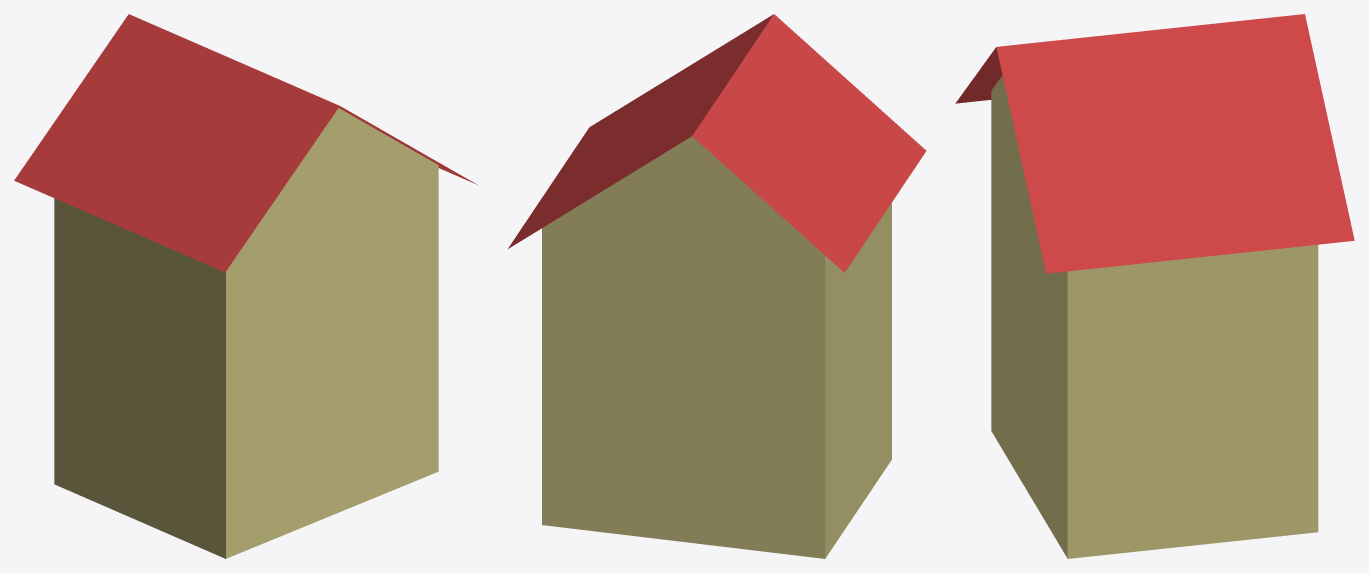
3 views of the same model, side by side, from view 1: azimuth 30°, elevation 25°; view 2: azimuth 150°, elevation 25°; view 3: azimuth 270°, elevation 25° (orthographic). The views are drawn at different scales.
Size of the model in its own units: 14.69 by 13.4 by 16.43.
